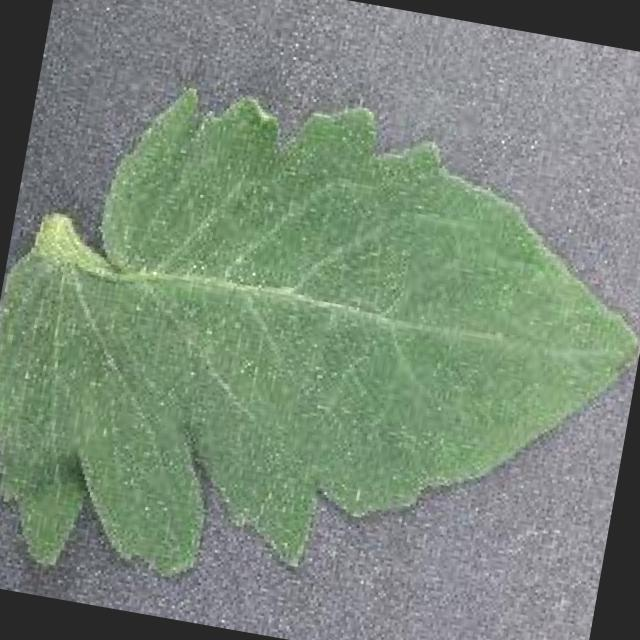healthy: (0, 77, 640, 579)
